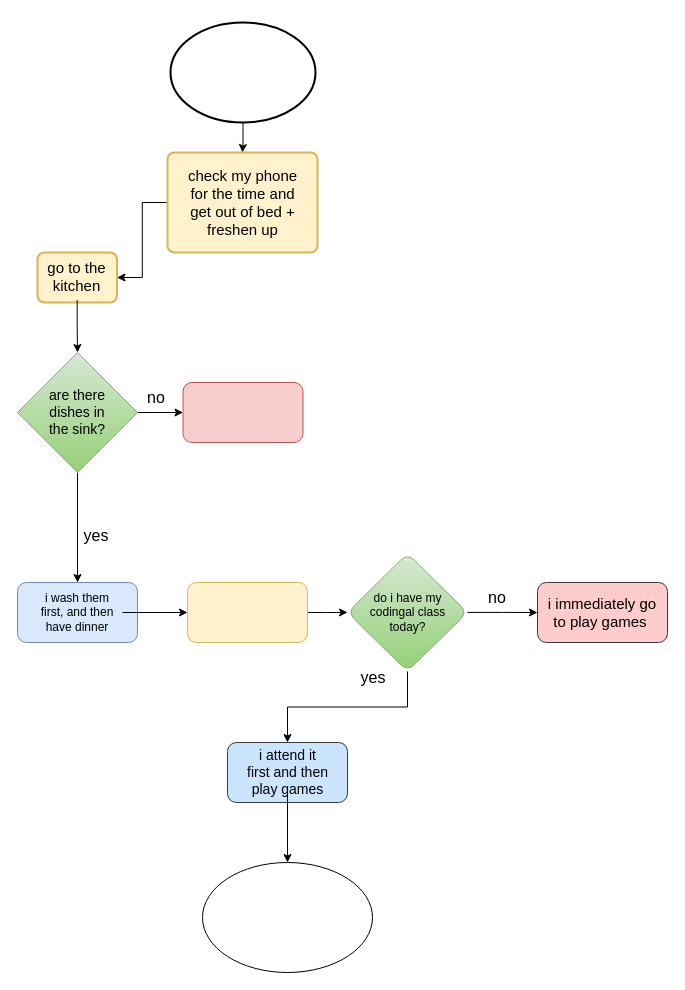
Some shapes in this 685 by 990 pixel diagram are drawn without their labels. The box of each missing label's shape, as (x1, y1, x2, y2) in pixels:
Daily Routine: (169, 21, 316, 123)
go to school, and after coming back i complete my homework: (186, 582, 308, 642)
go to sleep: (202, 862, 372, 972)
have breakfast immediately and then go to college: (182, 382, 303, 442)
